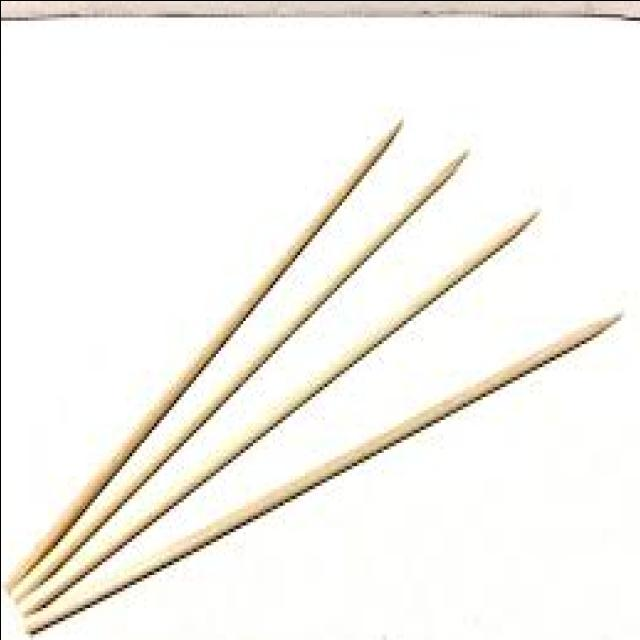stick: (12, 136, 476, 605), (22, 202, 539, 617), (4, 111, 410, 597), (65, 315, 620, 612)
